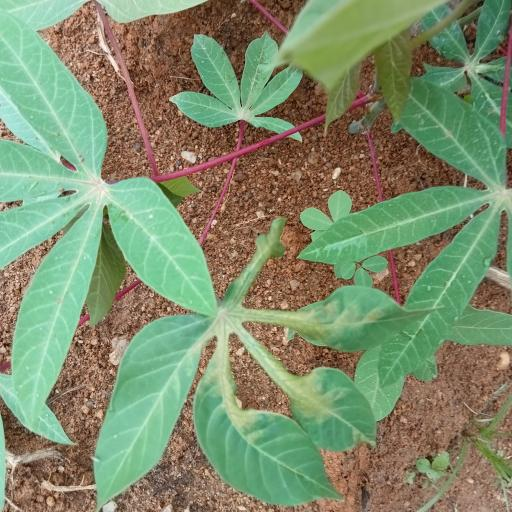Cassava_Mosaic: (0, 5, 223, 396), (100, 277, 392, 512)
